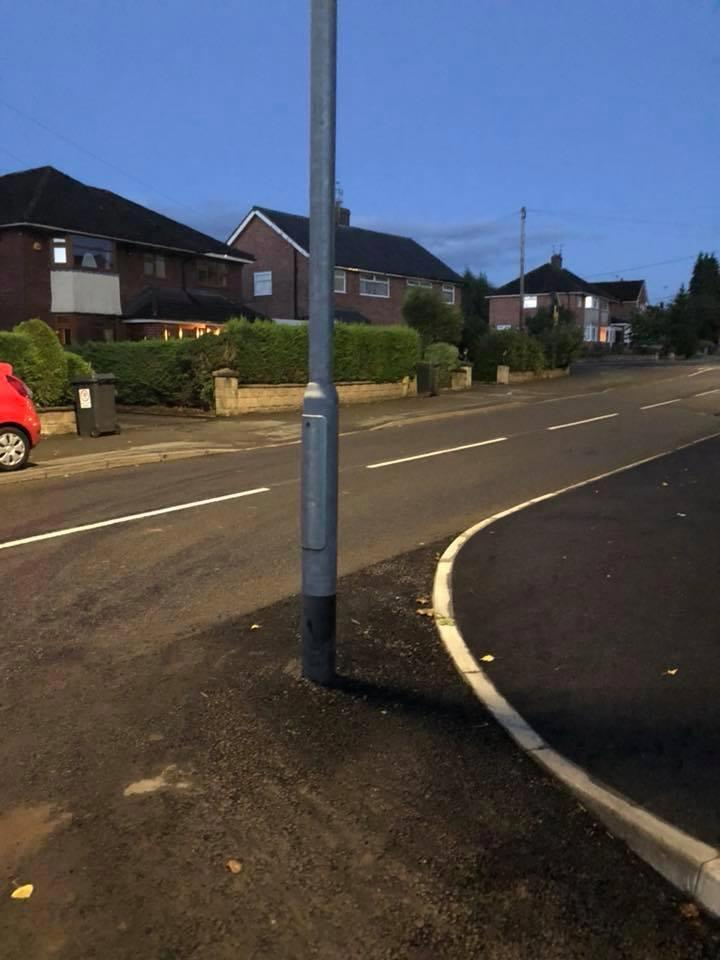pole: (261, 1, 370, 693)
